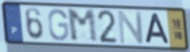2: (96, 9, 119, 45)
6: (24, 7, 45, 42)
A: (144, 13, 171, 46)
G: (47, 8, 70, 43)
M: (66, 8, 101, 44)
N: (117, 10, 146, 45)
